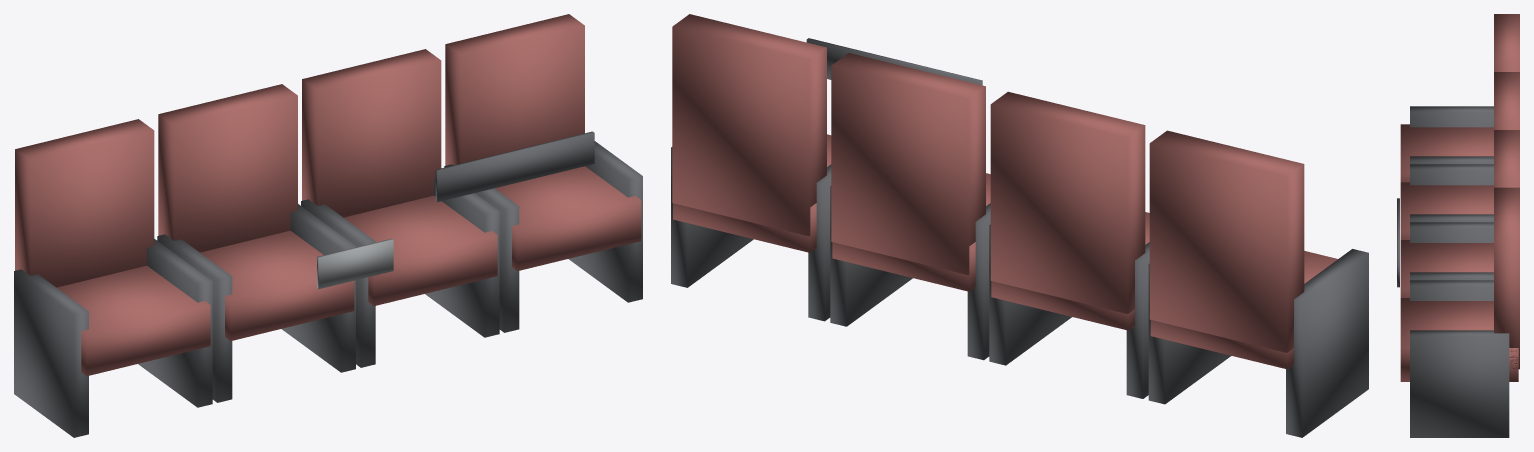
Rendered from theater_seat_row__weathered.glb.
The picture shows the model from 3 angles, left to right: view 1: azimuth 30°, elevation 25°; view 2: azimuth 150°, elevation 25°; view 3: azimuth 270°, elevation 25°; orthographic projection. The views are drawn at different scales.
Parts seen in each view (by area): view 1: world; view 2: world; view 3: world.
Part boxes in pixels (x1,y1,x2,y2): world: (14,14,642,437); world: (671,14,1368,437); world: (1397,14,1519,437).
Size of the model in its own units: 2.3 by 0.9207 by 0.5193.
